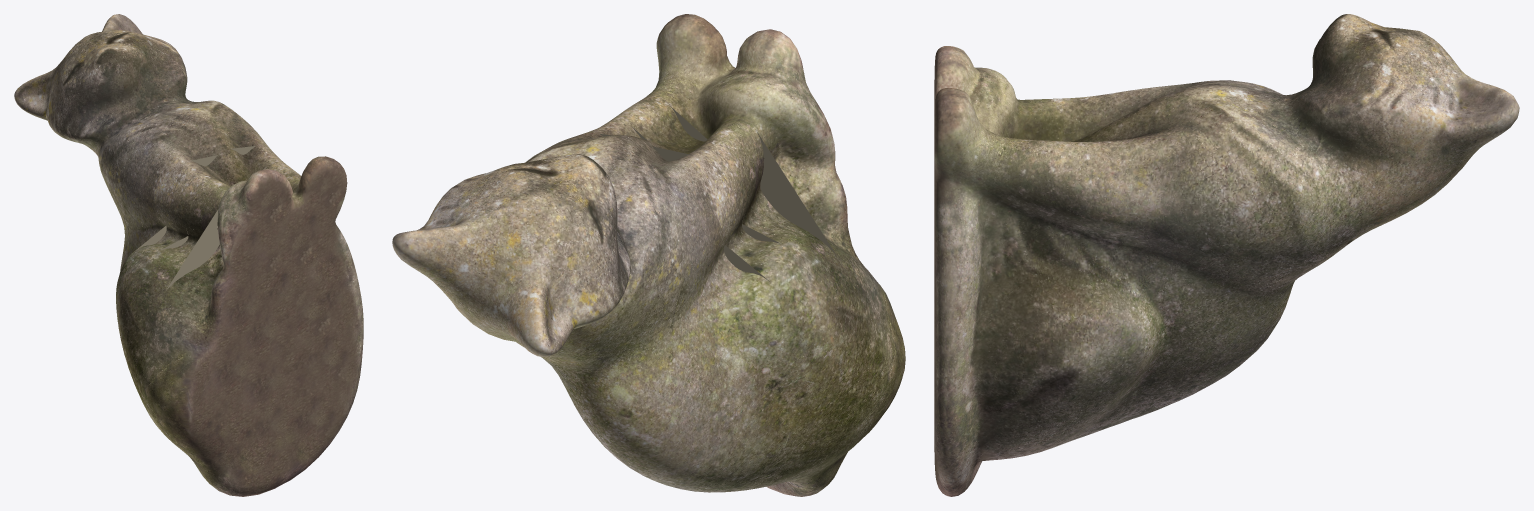
File: concrete_cat_statue_insides2.fbx
3 renders of one model, left to right at view 1: azimuth 30°, elevation 25°; view 2: azimuth 150°, elevation 25°; view 3: azimuth 270°, elevation 25°, orthographic. The views are drawn at different scales.
Parts seen in each view (by area): view 1: concrete_cat_statue; view 2: concrete_cat_statue; view 3: concrete_cat_statue.
Boxes of the visible parts, x1,y1,x2,y2 form: concrete_cat_statue: (14,14,363,496); concrete_cat_statue: (392,14,905,496); concrete_cat_statue: (934,14,1519,496).
Size of the model in its own units: 15.3 by 25 by 28.3.
1 material, 1 textured.
